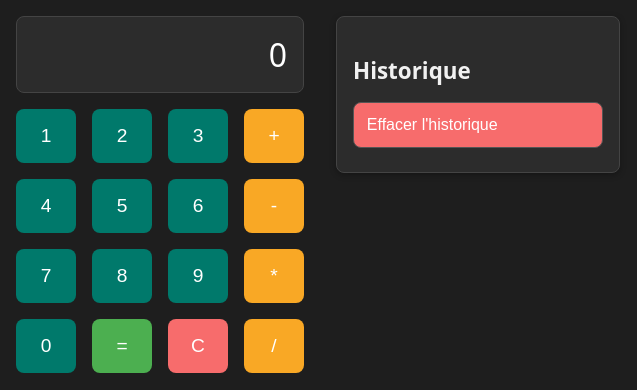
Calculatrice › fait une multiplication simple
This screenshot has width=637, height=390.
Click the button "3" at point(198, 136), box x1=168 y1=109 x2=228 y2=163
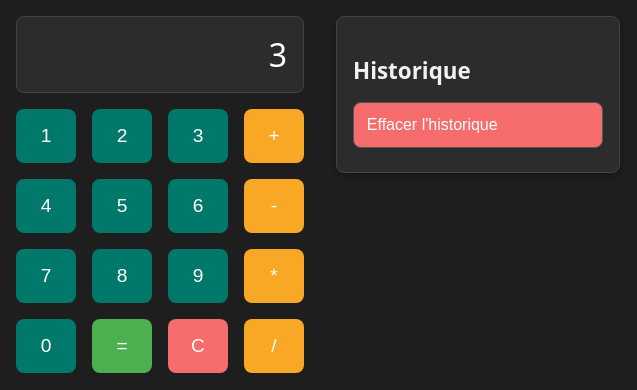
Click the button "*" at point(274, 276), box x1=244 y1=249 x2=304 y2=303
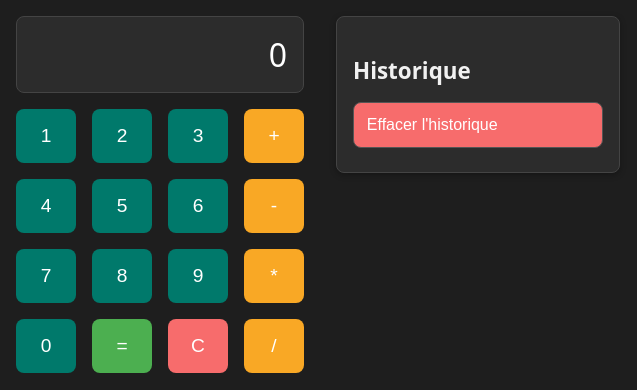
Click the button "4" at point(46, 206), box x1=16 y1=179 x2=76 y2=233
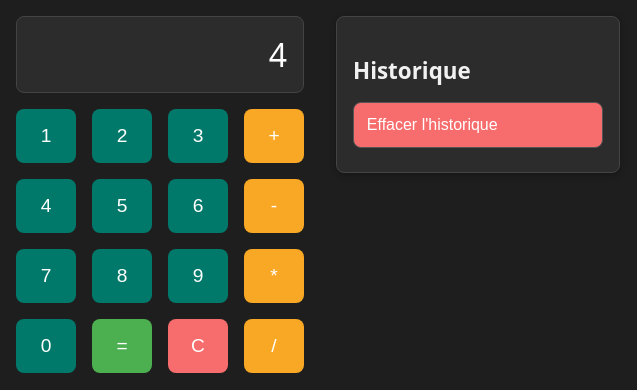
Click the button "=" at point(122, 346), box x1=92 y1=319 x2=152 y2=373
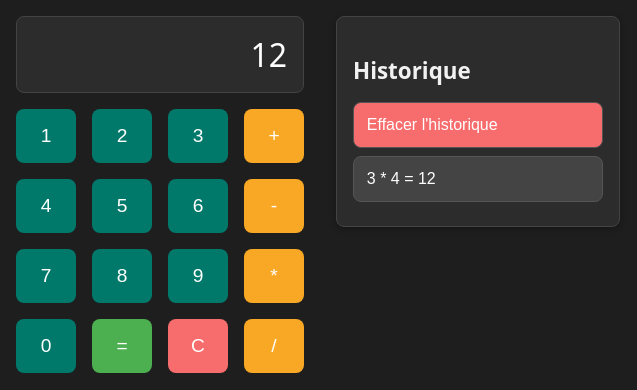
Check: the text "12" is shown, box x1=16 y1=16 x2=304 y2=93
